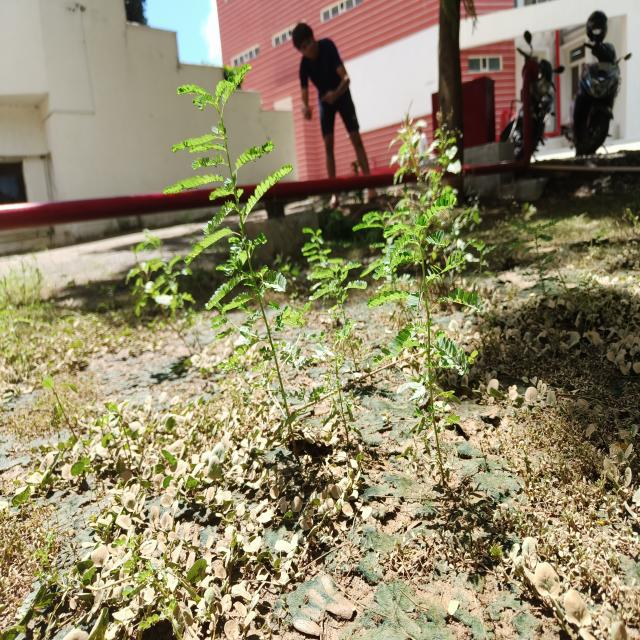weed: (166, 59, 294, 425), (370, 120, 482, 479)
